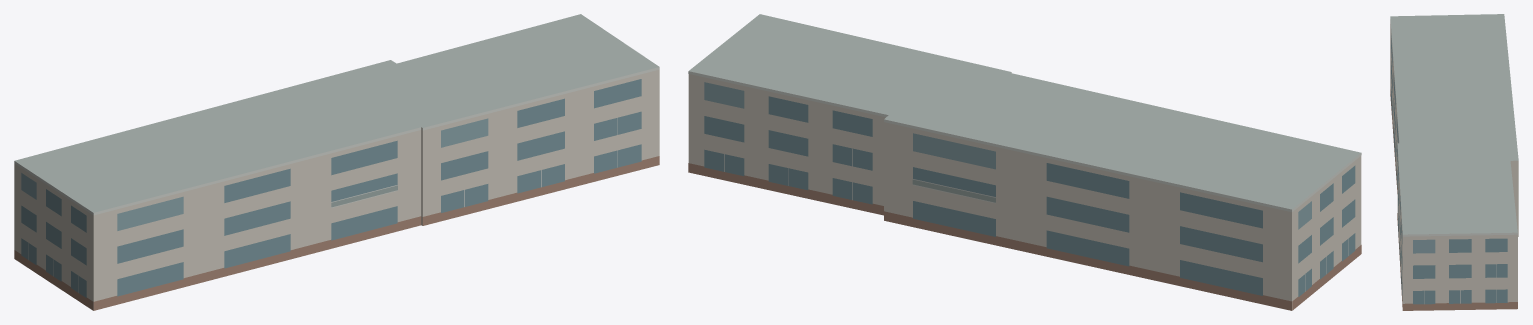
The model's file is survey-upis-32948972.glb.
The picture shows the model from 3 angles, left to right: view 1: azimuth 30°, elevation 25°; view 2: azimuth 150°, elevation 25°; view 3: azimuth 270°, elevation 25°; orthographic projection. The views are drawn at different scales.
Visible parts, largest first — view 1: survey-upis-32948972.tmp; view 2: survey-upis-32948972.tmp; view 3: survey-upis-32948972.tmp.
Part boxes in pixels (x1,y1,x2,y2): survey-upis-32948972.tmp: (14, 14, 659, 310); survey-upis-32948972.tmp: (688, 14, 1361, 310); survey-upis-32948972.tmp: (1390, 14, 1518, 310).
Size of the model in its own units: 56.67 by 9.15 by 13.95.
